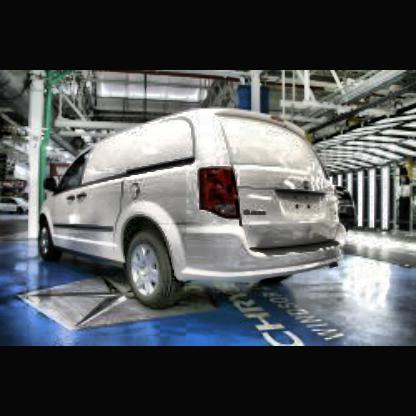Ram C-V Cargo Van Minivan 2012: (37, 105, 351, 301)
